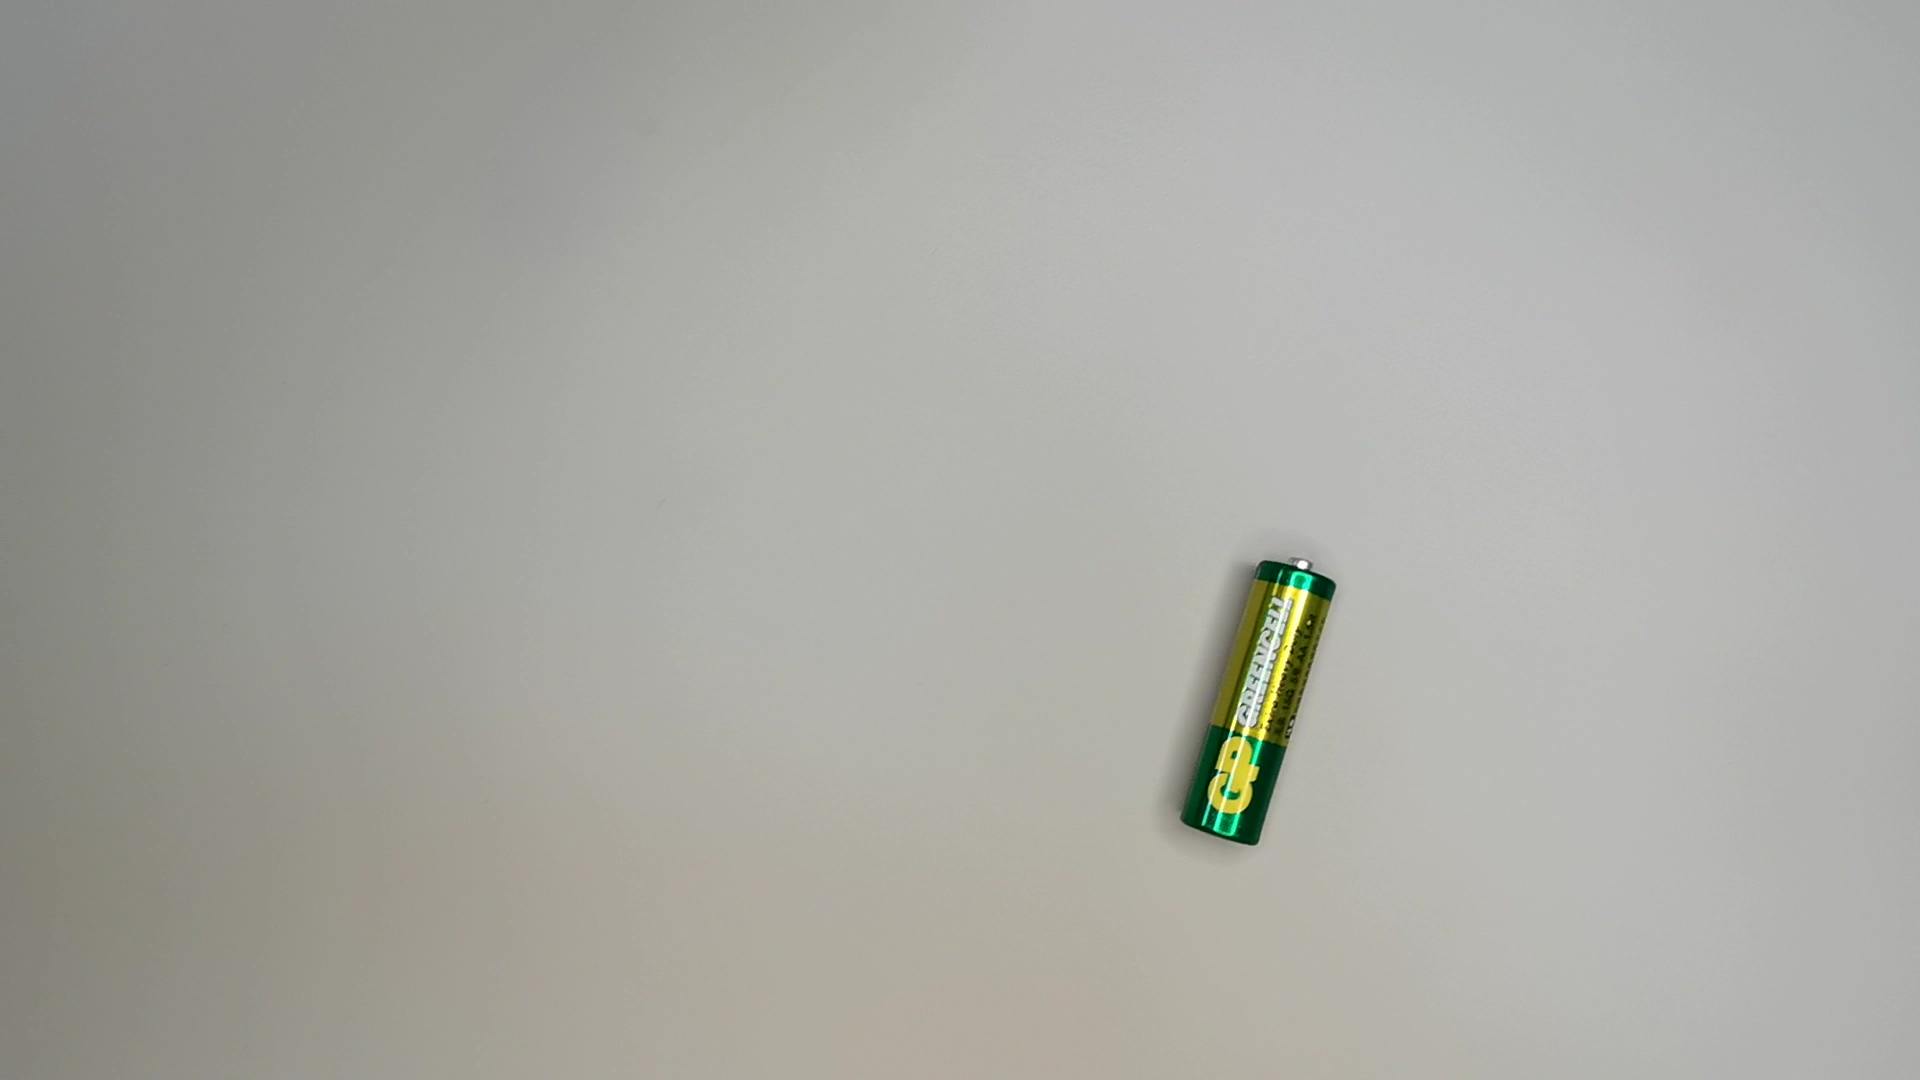battery: (1182, 554, 1341, 852)
